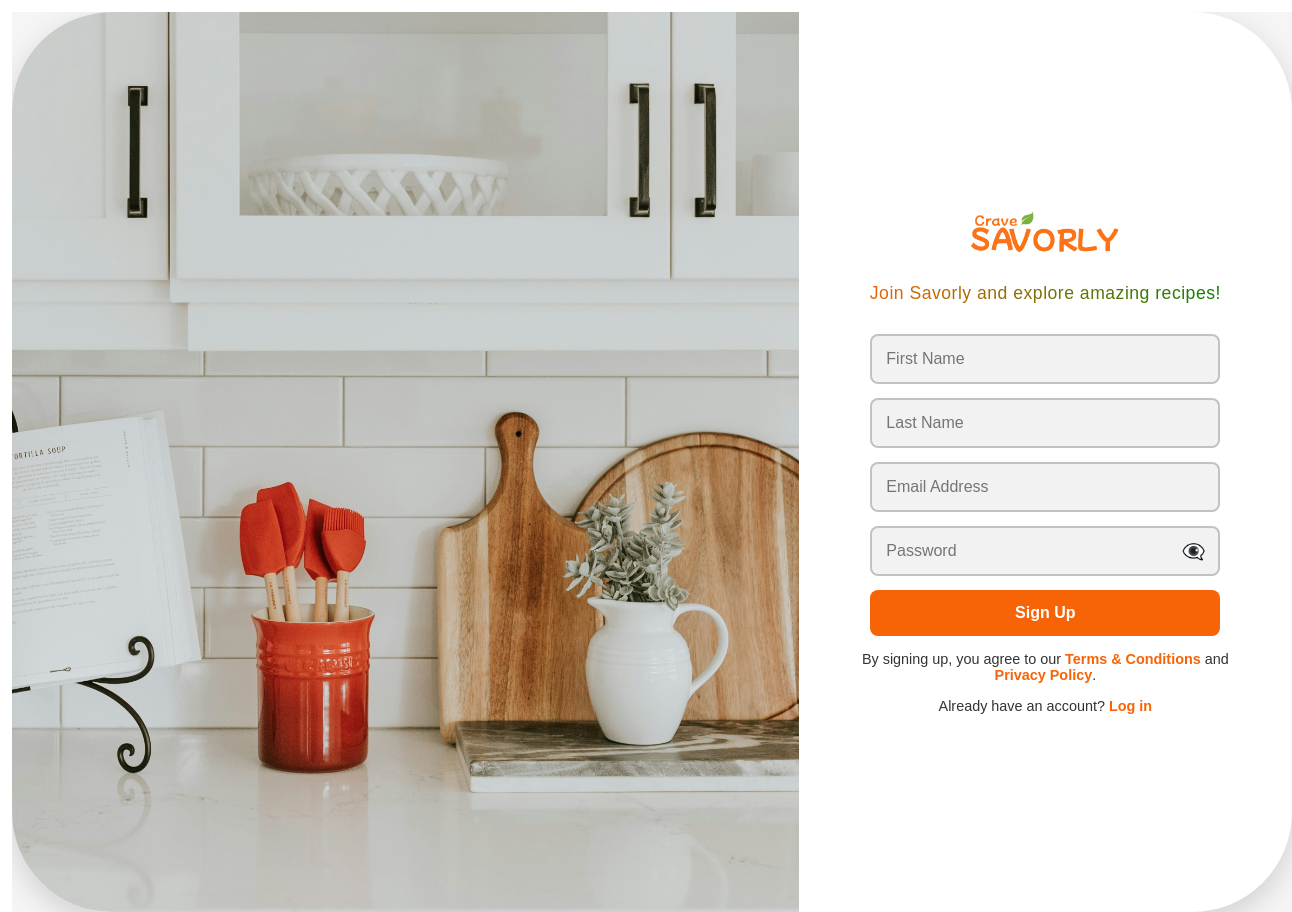
Register Component › shows an error message for weak password
The image size is (1292, 912).
Type "Jane" into the field with placeholder "First Name". click: (1045, 359)
box: left=870, top=334, right=1220, bottom=384
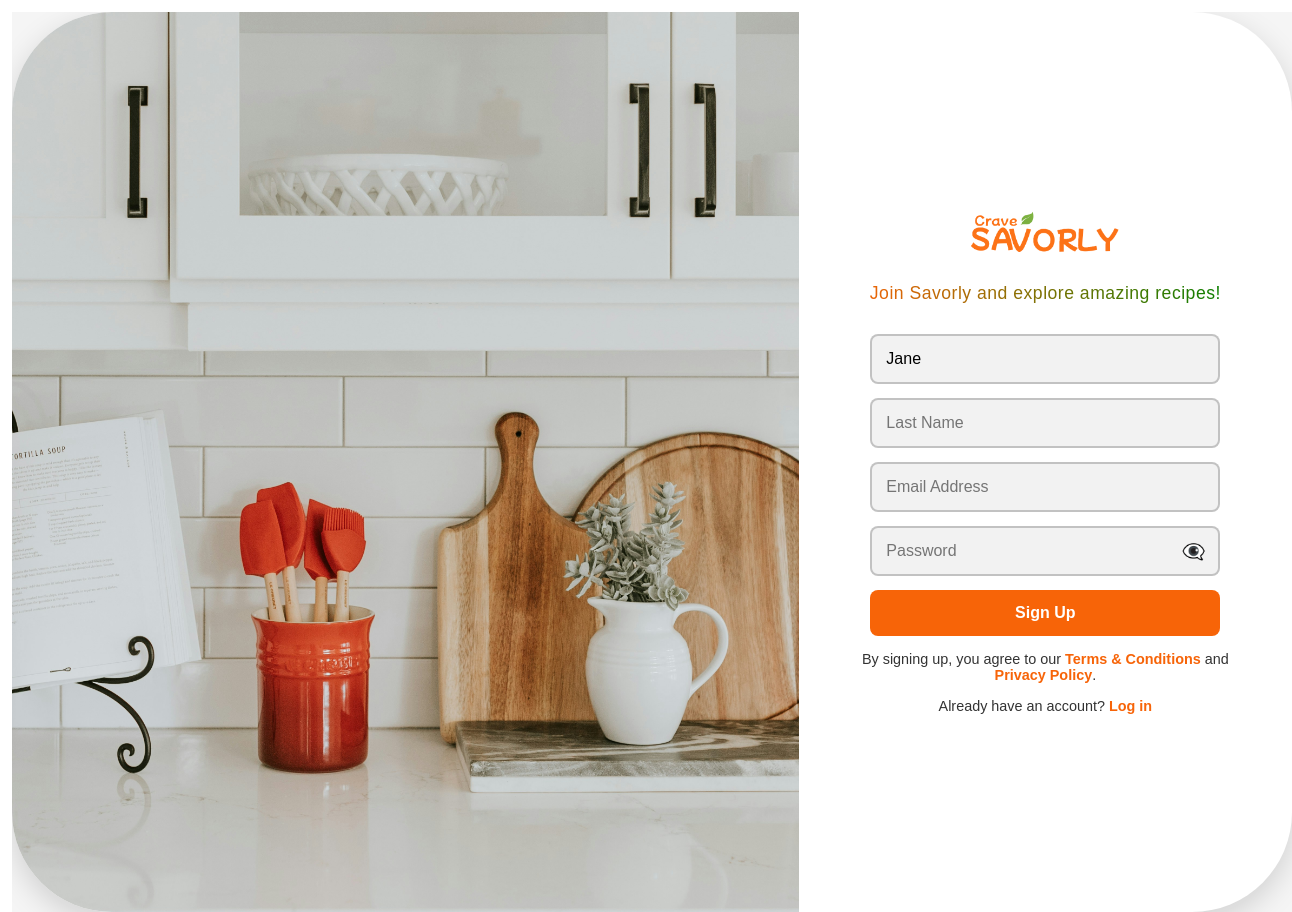
Type "Doe" into the field with placeholder "Last Name". click: (1045, 423)
box: left=870, top=398, right=1220, bottom=448
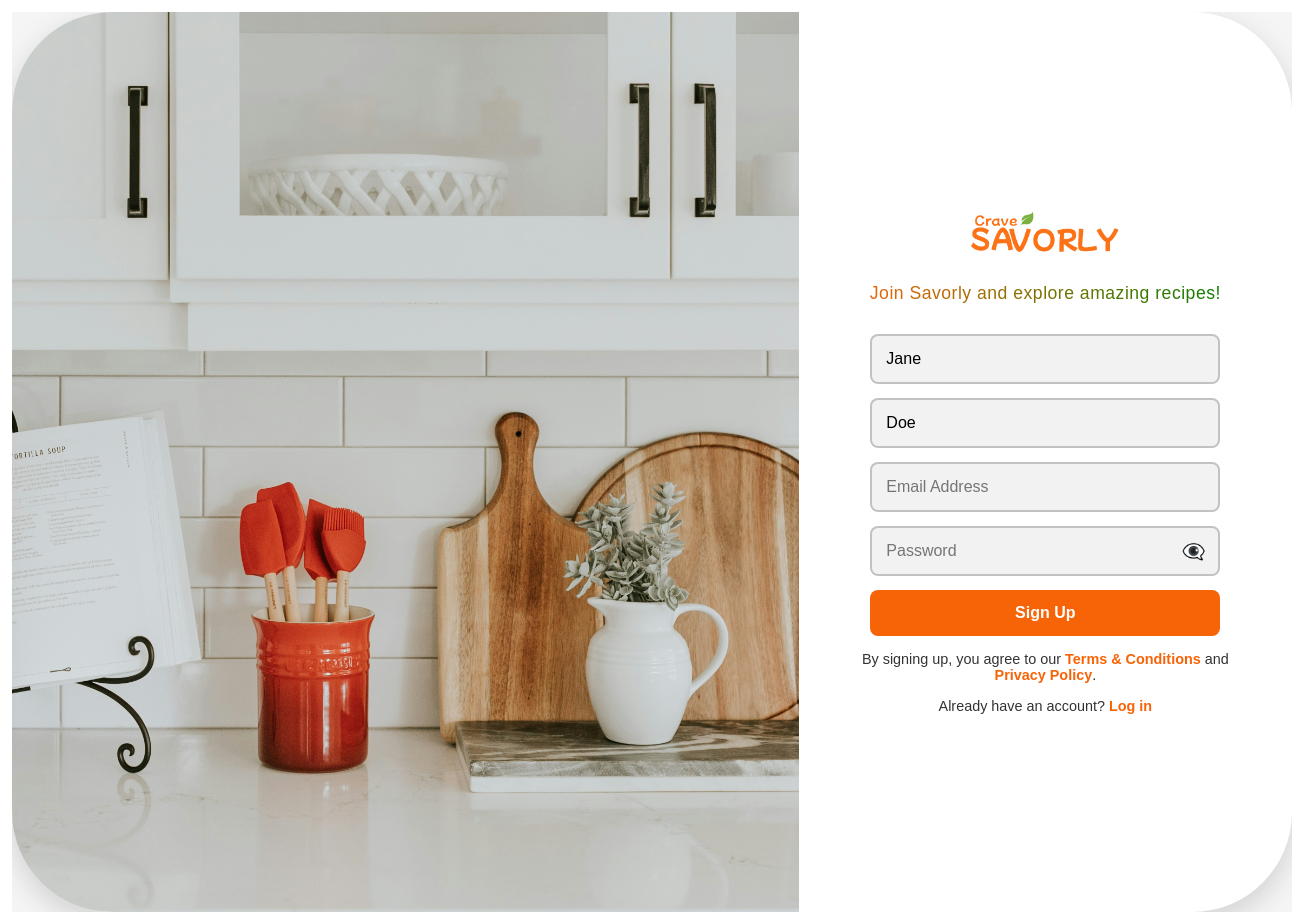
Type "jane.doe@example.com" into the field with placeholder "Email Address". click: (1045, 487)
box: left=870, top=462, right=1220, bottom=512
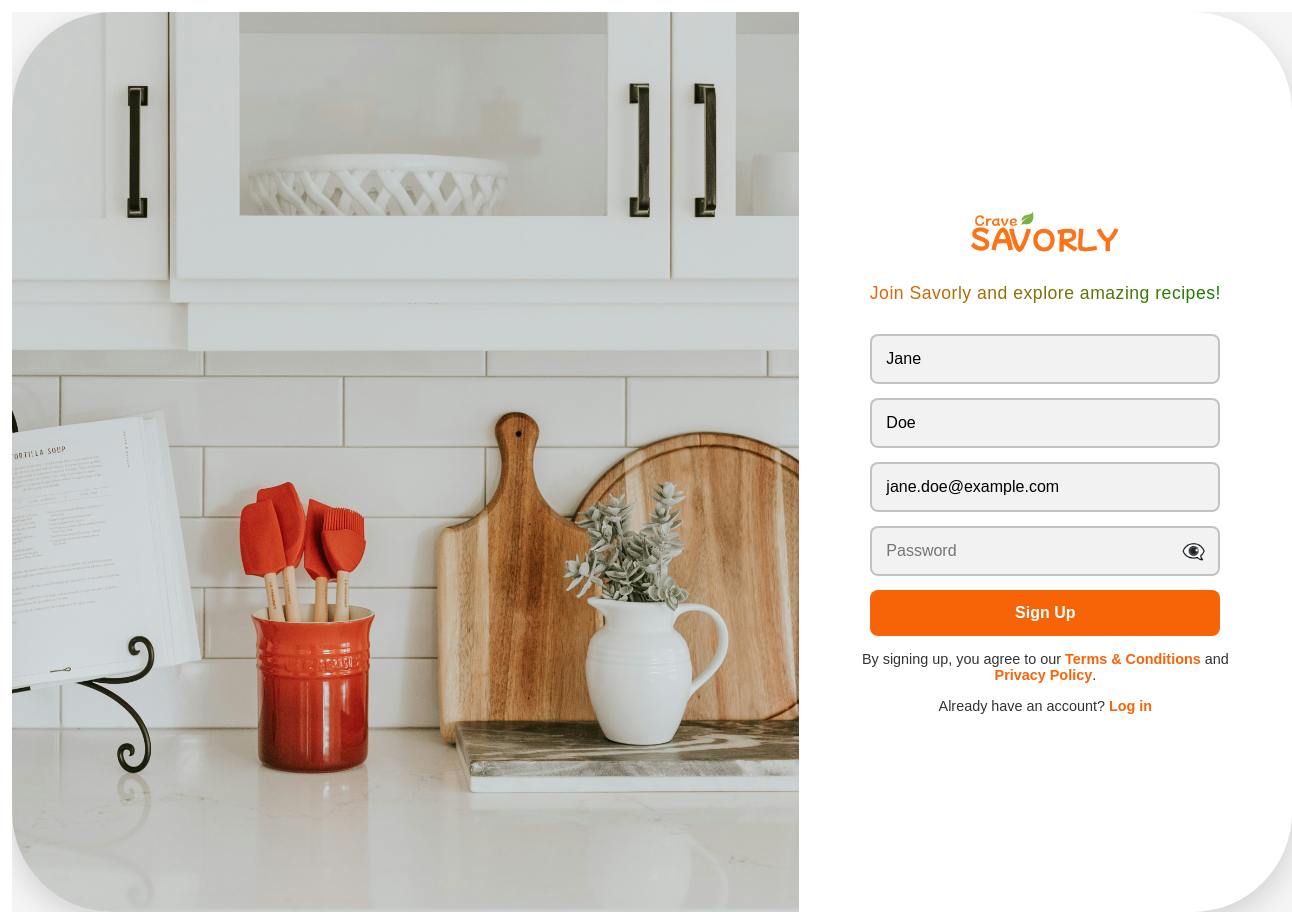
Type "weak" into the password field with placeholder "Password". click: (1045, 551)
box: left=870, top=526, right=1220, bottom=576
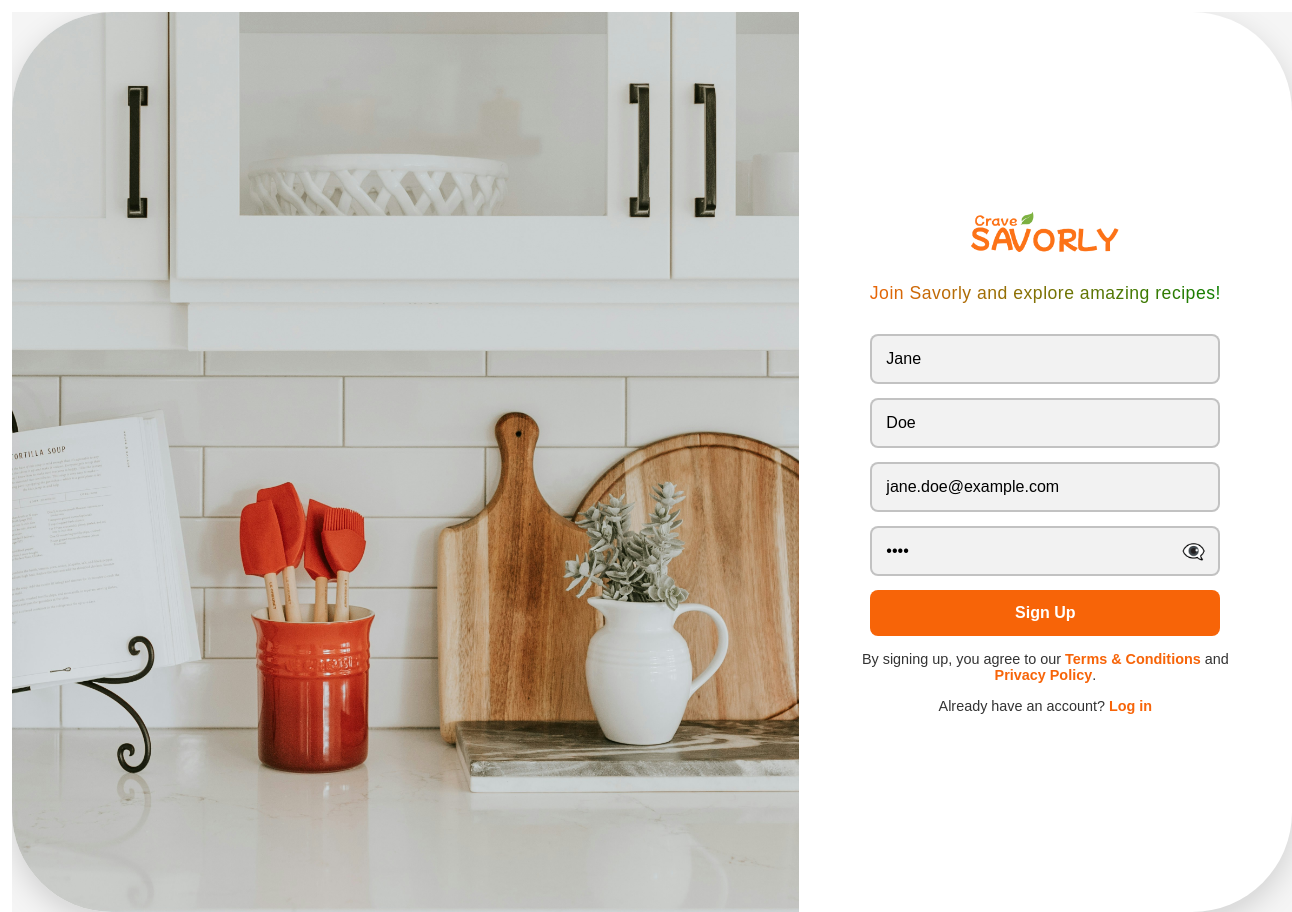
Click the button "Sign Up". click: (1045, 613)
box: left=870, top=590, right=1220, bottom=636
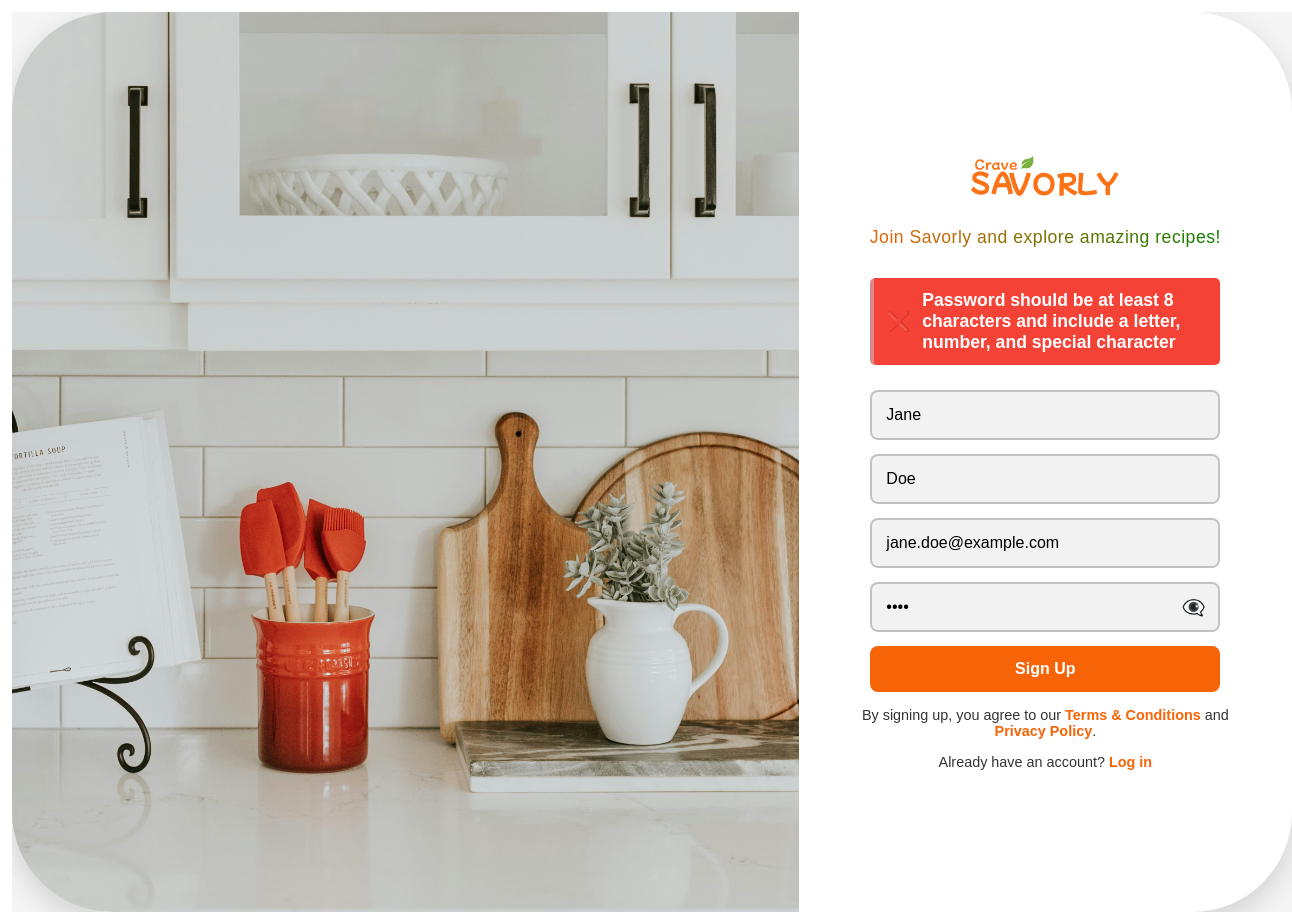
Now the message shows "Password should be at least 8 characters", box left=922, top=290, right=1180, bottom=352
